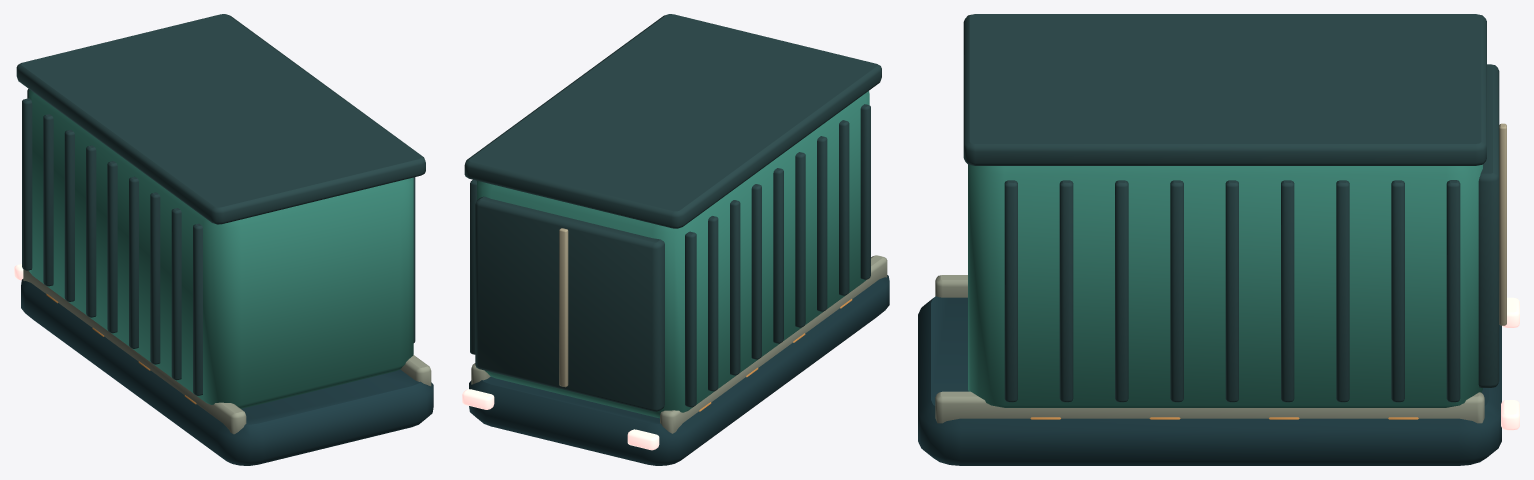
The model's file is freight.glb.
3 views of the same model, side by side, from view 1: azimuth 30°, elevation 25°; view 2: azimuth 150°, elevation 25°; view 3: azimuth 270°, elevation 25° (orthographic). The views are drawn at different scales.
Parts seen in each view (by area): view 1: Freight; view 2: Freight; view 3: Freight.
Boxes of the visible parts, x1=… form: Freight: x1=14, y1=14, x2=433, y2=465; Freight: x1=462, y1=14, x2=889, y2=465; Freight: x1=918, y1=14, x2=1519, y2=465.
Size of the model in its own units: 1.9 by 2.08 by 3.49.
